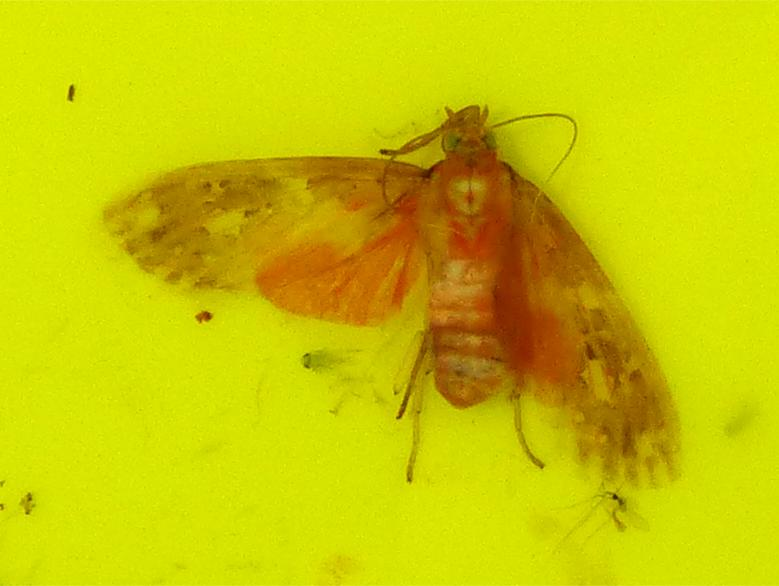Lepidoptera: (100, 100, 679, 486)
